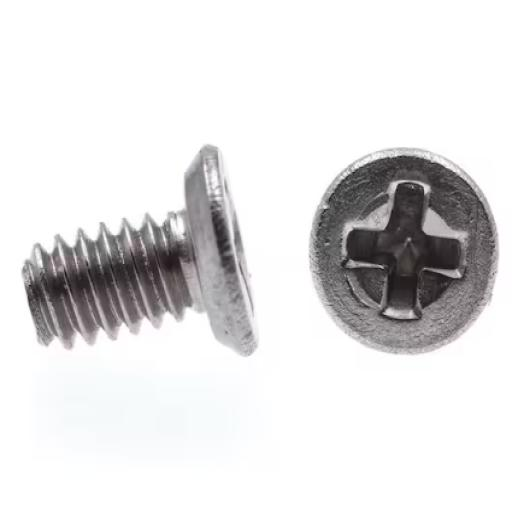Phillips: (310, 148, 496, 355)
